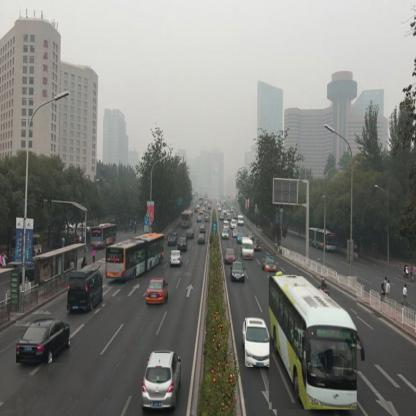bus: (269, 277, 358, 411), (106, 235, 165, 280), (182, 211, 192, 229)
car: (17, 321, 71, 365), (141, 354, 182, 411), (246, 313, 271, 369), (70, 272, 104, 311), (147, 276, 169, 307), (243, 241, 255, 261), (233, 264, 246, 281), (225, 249, 236, 266), (263, 260, 277, 273), (172, 252, 184, 266), (168, 233, 178, 249), (187, 231, 196, 241), (180, 241, 189, 251), (238, 217, 246, 228), (198, 236, 207, 245), (201, 224, 207, 233), (222, 232, 230, 238), (232, 221, 237, 230), (208, 215, 212, 223), (234, 232, 239, 238), (198, 217, 202, 223), (225, 224, 229, 230)
